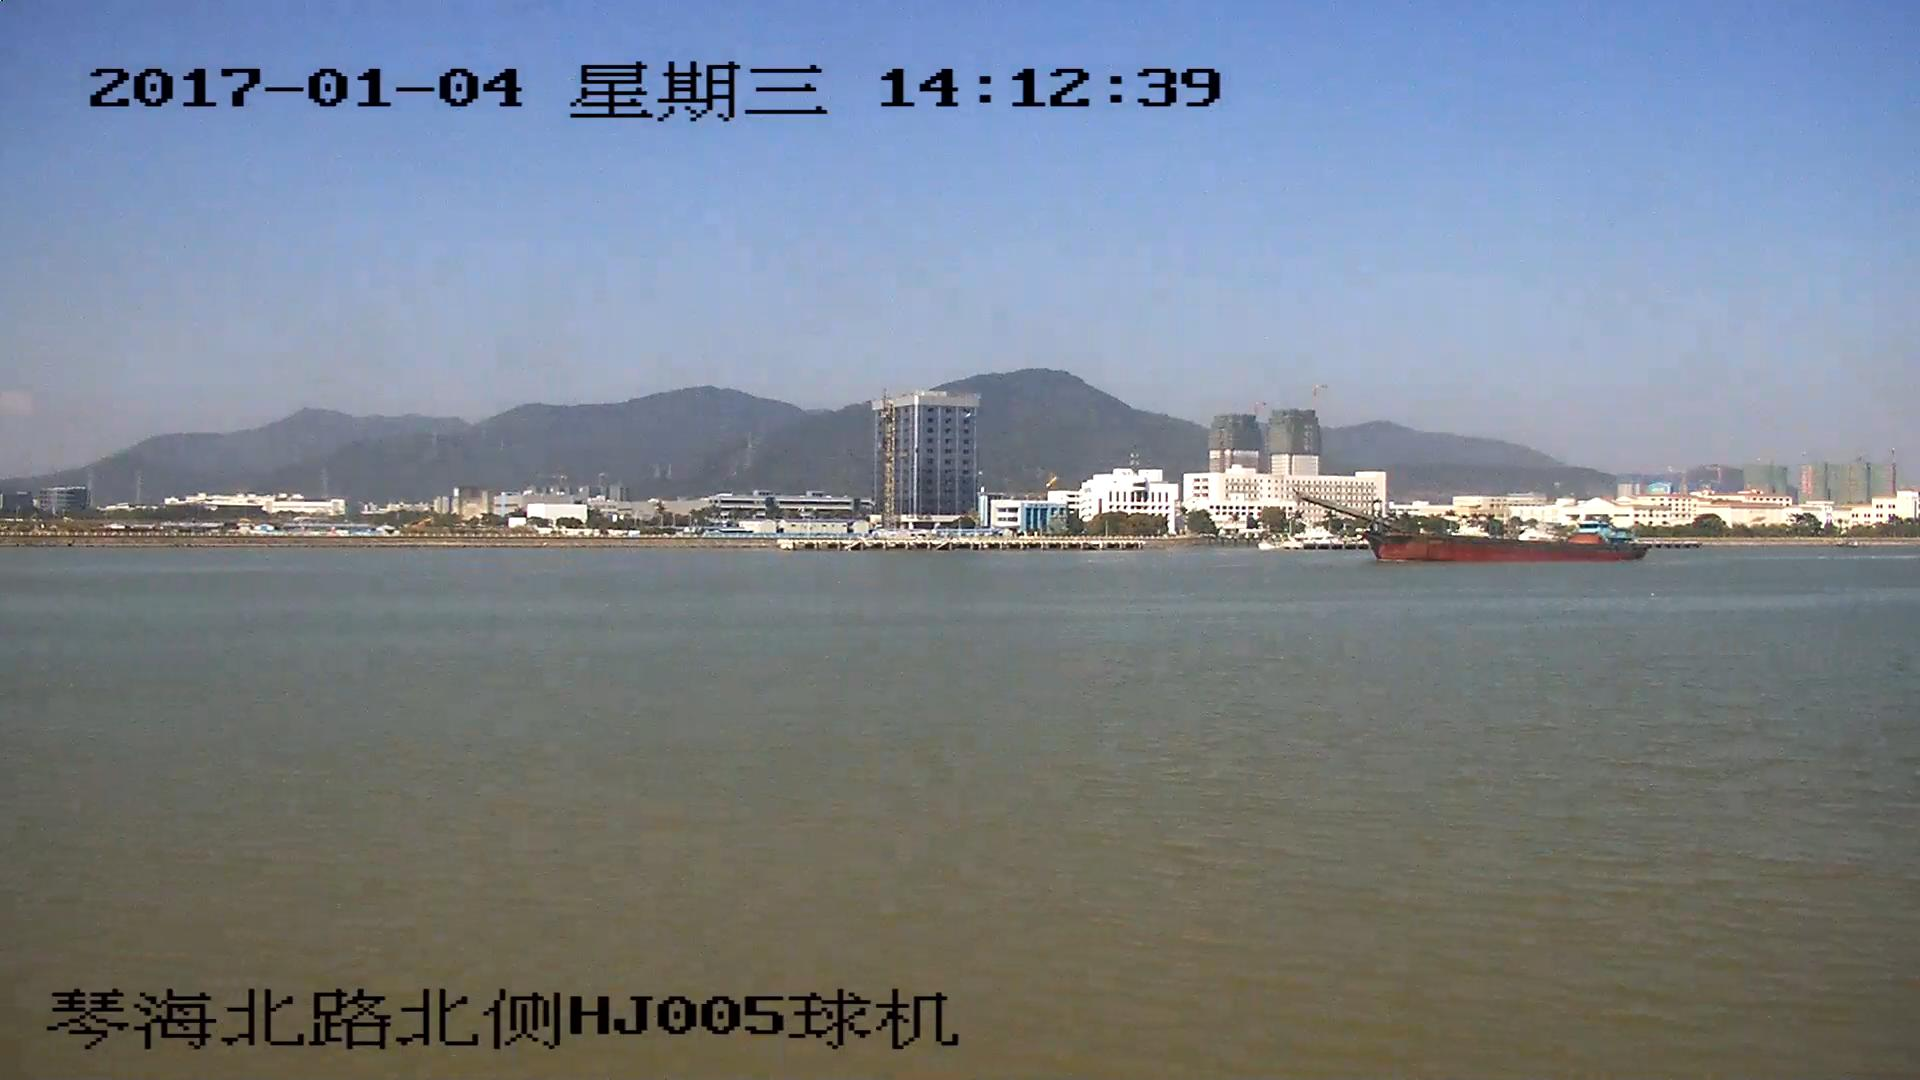bulk cargo carrier: (1301, 495, 1647, 562)
